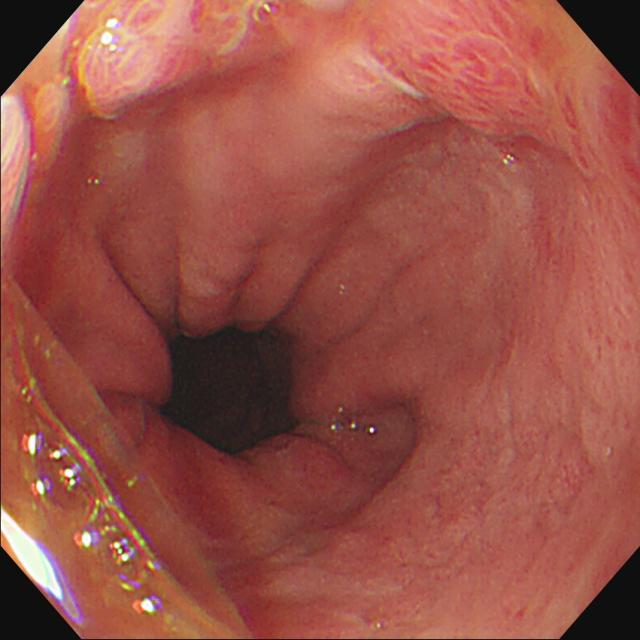A: (378, 2, 578, 150)
E: (166, 329, 300, 455)
U: (2, 506, 83, 622), (110, 539, 139, 593), (49, 450, 83, 494), (100, 18, 121, 53), (133, 598, 163, 615), (22, 434, 44, 455), (75, 530, 100, 548), (31, 480, 52, 498)
